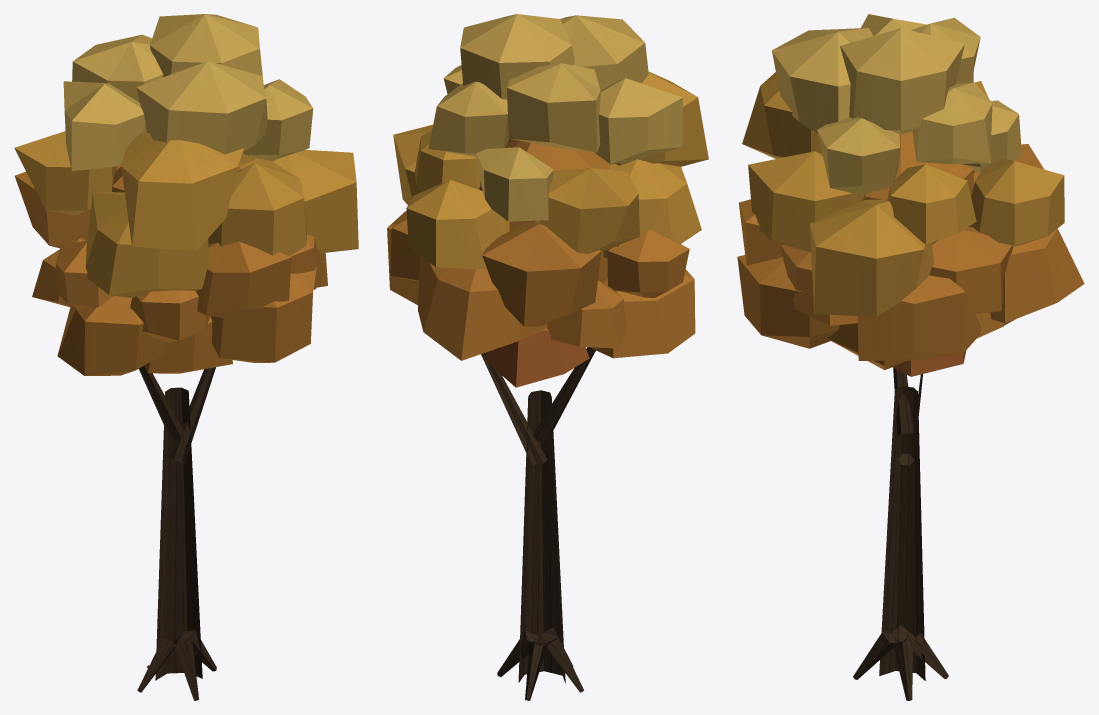
The model's file is tree_broadleaf_03_autumn.glb.
3 renders of one model, left to right at view 1: azimuth 30°, elevation 25°; view 2: azimuth 150°, elevation 25°; view 3: azimuth 270°, elevation 25°, orthographic.
Visible parts, largest first — view 1: tree_broadleaf_03_autumn; view 2: tree_broadleaf_03_autumn; view 3: tree_broadleaf_03_autumn.
Part boxes in pixels (<box>): tree_broadleaf_03_autumn: <box>14,14,358,700</box>; tree_broadleaf_03_autumn: <box>387,14,708,700</box>; tree_broadleaf_03_autumn: <box>737,14,1084,700</box>.
Size of the model in its own units: 3.62 by 7.83 by 3.69.
Materials: 5 (5 with a texture image).
